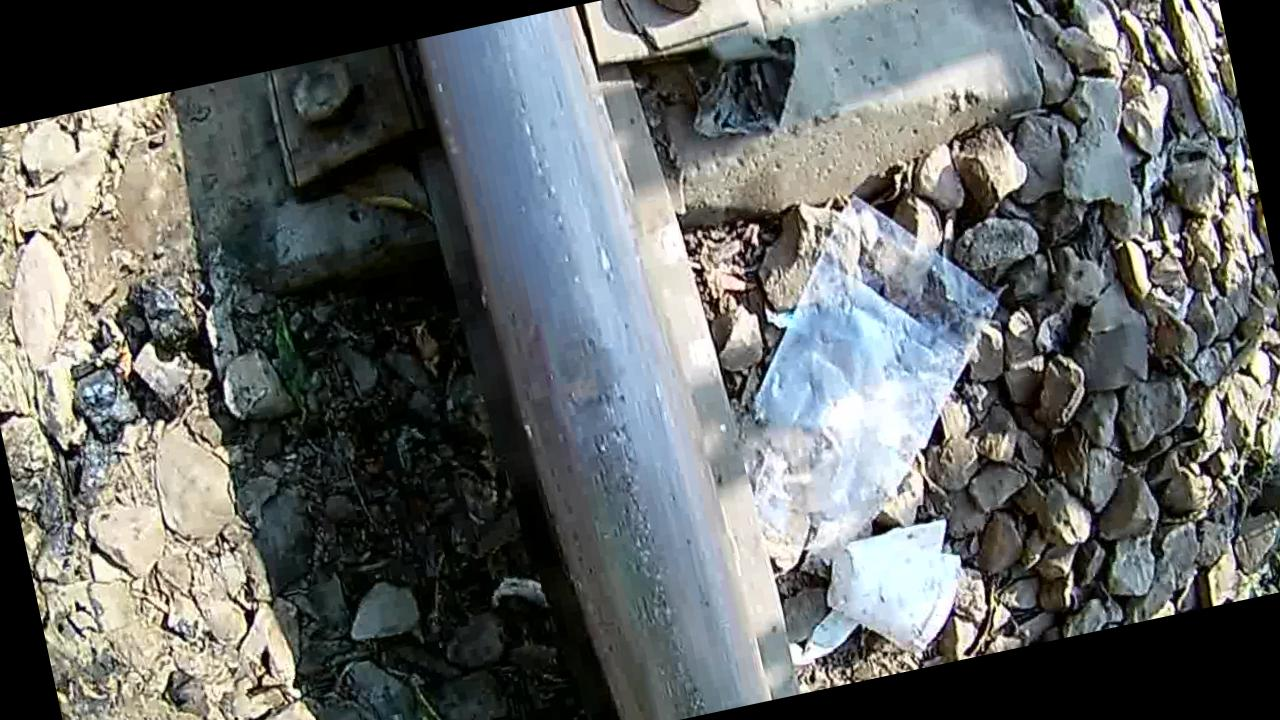bolt_missing: (496, 285, 688, 494)
